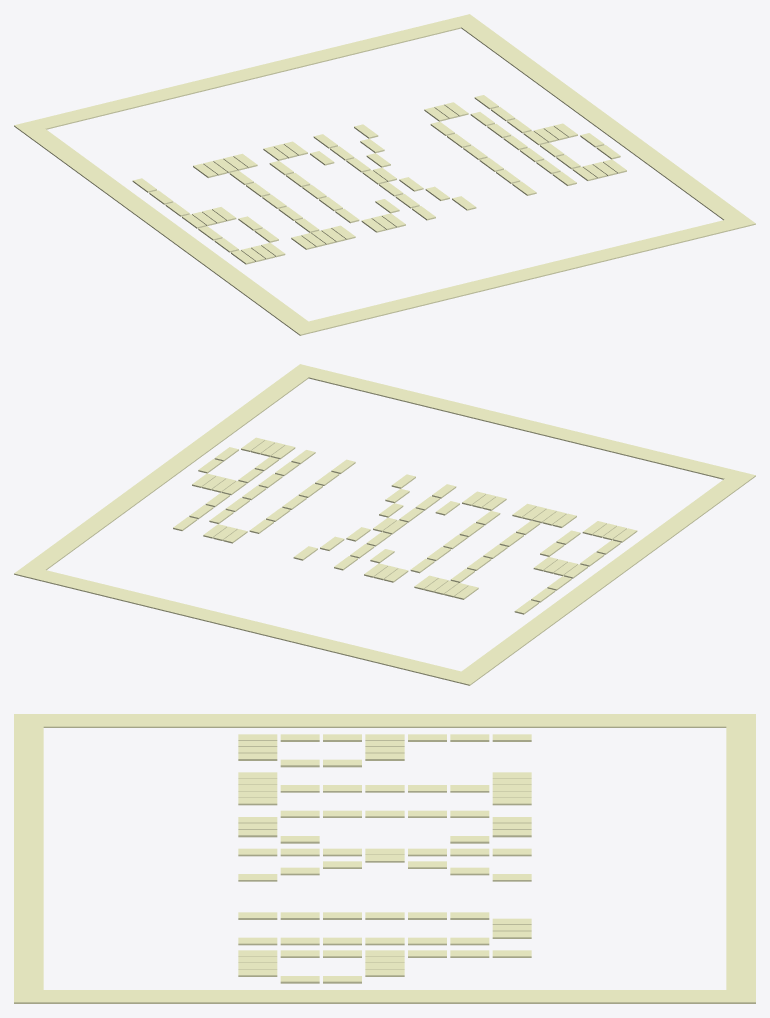
File: marking_pick_up_box_white.glb
3 views of the same model, one above another, from view 1: azimuth 30°, elevation 25°; view 2: azimuth 150°, elevation 25°; view 3: azimuth 270°, elevation 25° (orthographic). The views are drawn at different scales.
Visible parts, largest first — view 1: pick_up_box_bottom, pick_up_box_top, pick_up_box_left, pick_up_box_right; view 2: pick_up_box_top, pick_up_box_bottom, pick_up_box_left, pick_up_box_right; view 3: pick_up_box_left, pick_up_box_right, pick_up_box_top, pick_up_box_bottom.
Part boxes in pixels (x1,y1,x2,y2): pick_up_box_bottom: [288, 215, 755, 335]; pick_up_box_top: [14, 14, 480, 134]; pick_up_box_left: [25, 129, 308, 326]; pick_up_box_right: [461, 22, 743, 220]; pick_up_box_top: [14, 565, 481, 685]; pick_up_box_bottom: [289, 364, 755, 484]; pick_up_box_left: [461, 479, 744, 676]; pick_up_box_right: [26, 372, 308, 570]; pick_up_box_left: [43, 714, 726, 727]; pick_up_box_right: [43, 990, 726, 1003]; pick_up_box_top: [726, 714, 755, 1003]; pick_up_box_bottom: [14, 714, 43, 1003].
Size of the model in its own units: 2.06 by 0.006 by 2.24.
